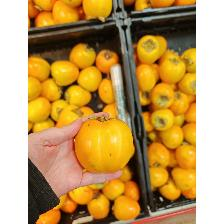Kaki: (74, 114, 134, 174)
